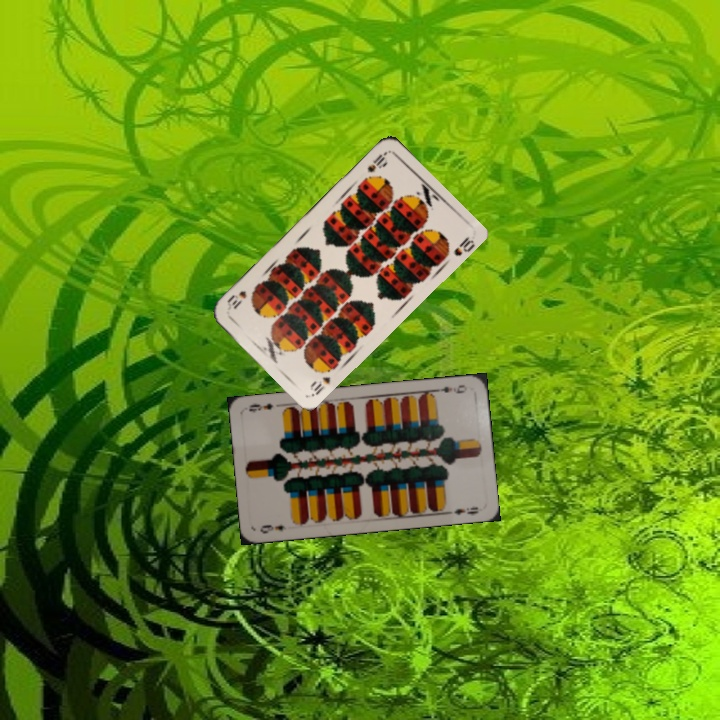E9: (431, 381, 470, 396), (256, 521, 289, 536)
S10: (363, 147, 390, 175), (306, 372, 333, 398)
